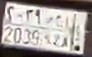0: (13, 12, 25, 44)
2: (3, 3, 15, 43)
3: (23, 9, 33, 45)
9: (32, 8, 41, 46)
A: (61, 16, 70, 47)
X: (43, 16, 53, 46)
